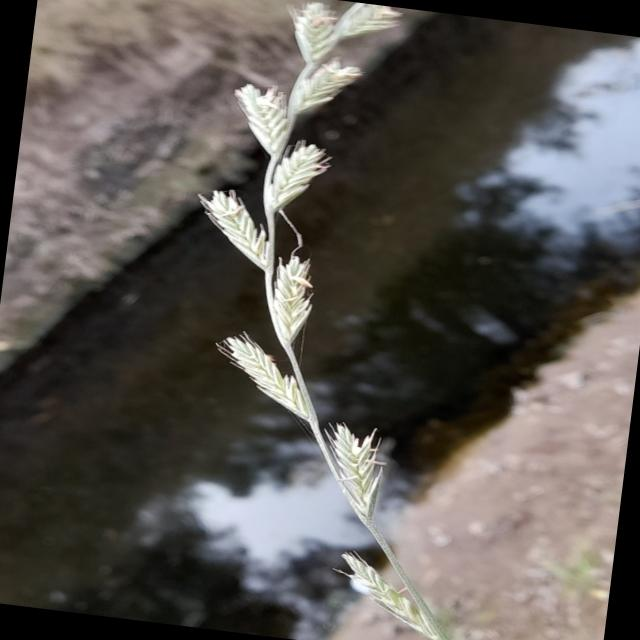Lolium: (140, 0, 539, 640)
